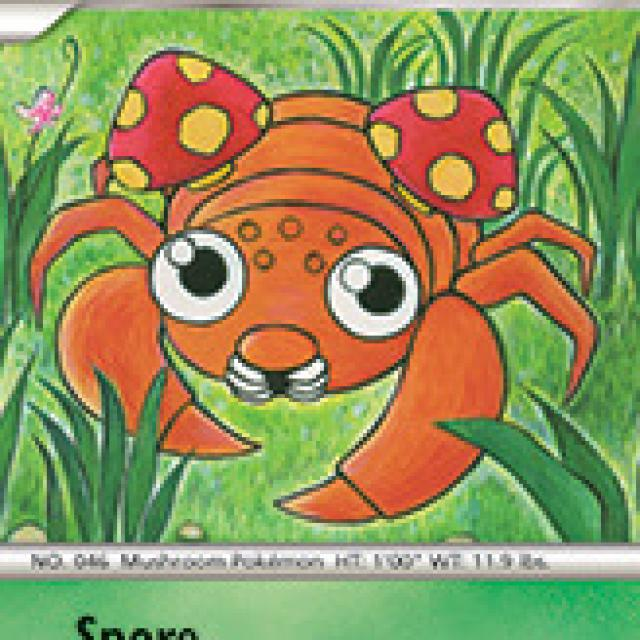Paras: (44, 50, 612, 536)
